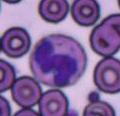N: (30, 33, 87, 86)
